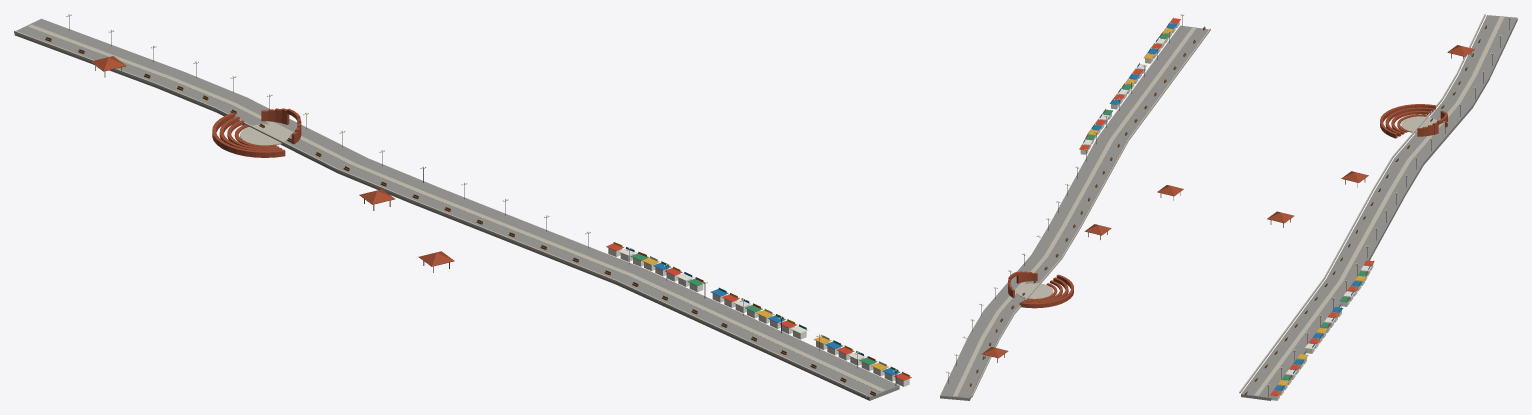
File: beach.glb
3 renders of one model, left to right at view 1: azimuth 30°, elevation 25°; view 2: azimuth 150°, elevation 25°; view 3: azimuth 330°, elevation 25°, orthographic. The views are drawn at different scales.
Parts seen in each view (by area): view 1: beach; view 2: beach; view 3: beach.
Boxes of the visible parts, box(x1,y1,x2,y2) form: beach: box(14, 14, 911, 400); beach: box(940, 14, 1210, 400); beach: box(1239, 14, 1517, 400).
Bounding box in the file's own units: 116 × 7.08 × 380.
